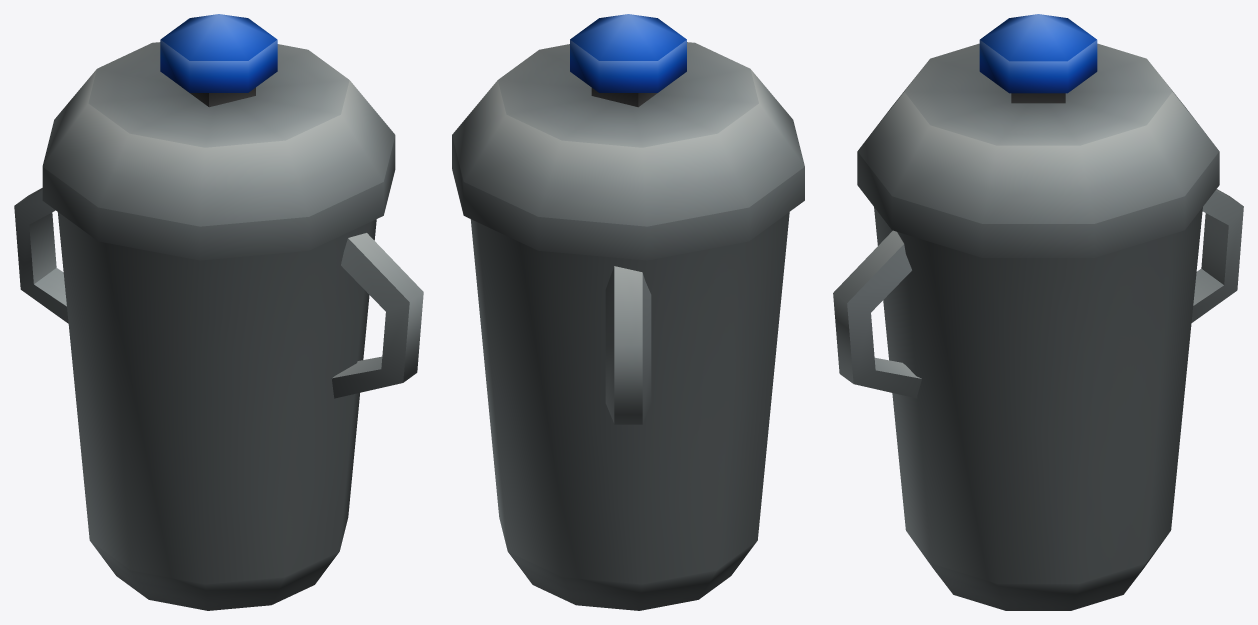
The model's file is Pot_1B.fbx.
3 views of the same model, side by side, from view 1: azimuth 30°, elevation 25°; view 2: azimuth 150°, elevation 25°; view 3: azimuth 270°, elevation 25° (orthographic).
Parts seen in each view (by area): view 1: Pot_1B; view 2: Pot_1B; view 3: Pot_1B.
Part boxes in pixels (x1,y1,x2,y2): Pot_1B: [14, 14, 423, 610]; Pot_1B: [452, 14, 804, 610]; Pot_1B: [833, 14, 1243, 610].
Size of the model in its own units: 22.45 by 39.9 by 26.79.
